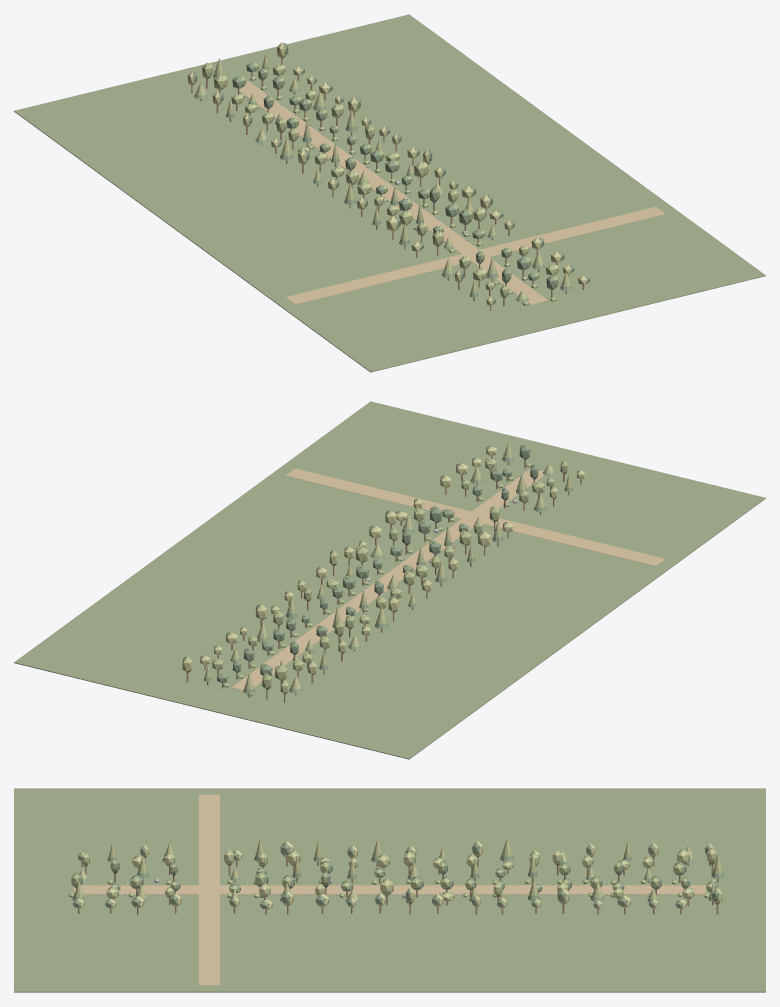
Rendered from forest_morning_junction.glb.
3 views of the same model, one above another, from view 1: azimuth 30°, elevation 25°; view 2: azimuth 150°, elevation 25°; view 3: azimuth 270°, elevation 25° (orthographic). The views are drawn at different scales.
Parts seen in each view (by area): view 1: Static.Forest.ground, Static.Leaf.middle, Static.Leaf.light, Static.Leaf.deep, Branch.front.Trail, Branch.left.Trail, Branch.right.Trail, Static.Wood, Static.Trail; view 2: Static.Forest.ground, Static.Leaf.middle, Static.Leaf.deep, Static.Leaf.light, Branch.front.Trail, Branch.left.Trail, Branch.right.Trail, Static.Wood, Static.Trail; view 3: Static.Forest.ground, Static.Leaf.middle, Static.Leaf.light, Static.Leaf.deep, Branch.front.Trail, Branch.right.Trail, Branch.left.Trail, Static.Trail, Static.Wood.
Boxes of the visible parts, left/top/right/bottom form: Static.Forest.ground: left=14, top=14, right=765, bottom=372; Static.Leaf.middle: left=196, top=62, right=571, bottom=305; Static.Leaf.light: left=187, top=42, right=588, bottom=305; Static.Leaf.deep: left=193, top=43, right=590, bottom=303; Branch.front.Trail: left=232, top=81, right=478, bottom=253; Branch.left.Trail: left=285, top=254, right=463, bottom=304; Branch.right.Trail: left=480, top=206, right=665, bottom=256; Static.Wood: left=191, top=59, right=584, bottom=310; Static.Trail: left=461, top=249, right=547, bottom=304; Static.Forest.ground: left=14, top=401, right=765, bottom=759; Static.Leaf.middle: left=204, top=444, right=572, bottom=696; Static.Leaf.deep: left=182, top=444, right=580, bottom=694; Static.Leaf.light: left=182, top=443, right=585, bottom=694; Branch.front.Trail: left=232, top=519, right=474, bottom=690; Branch.left.Trail: left=481, top=516, right=665, bottom=566; Branch.right.Trail: left=285, top=468, right=470, bottom=518; Static.Wood: left=186, top=456, right=581, bottom=702; Static.Trail: left=461, top=469, right=544, bottom=522; Static.Forest.ground: left=14, top=788, right=765, bottom=992; Static.Leaf.middle: left=68, top=847, right=723, bottom=900; Static.Leaf.light: left=73, top=838, right=722, bottom=909; Static.Leaf.deep: left=71, top=842, right=724, bottom=908; Branch.front.Trail: left=221, top=885, right=705, bottom=894; Branch.right.Trail: left=199, top=894, right=219, bottom=985; Branch.left.Trail: left=199, top=794, right=219, bottom=884; Static.Trail: left=74, top=885, right=221, bottom=894; Static.Wood: left=76, top=857, right=718, bottom=914.
Bounding box in the file's own units: 64 × 4.22 × 100.
